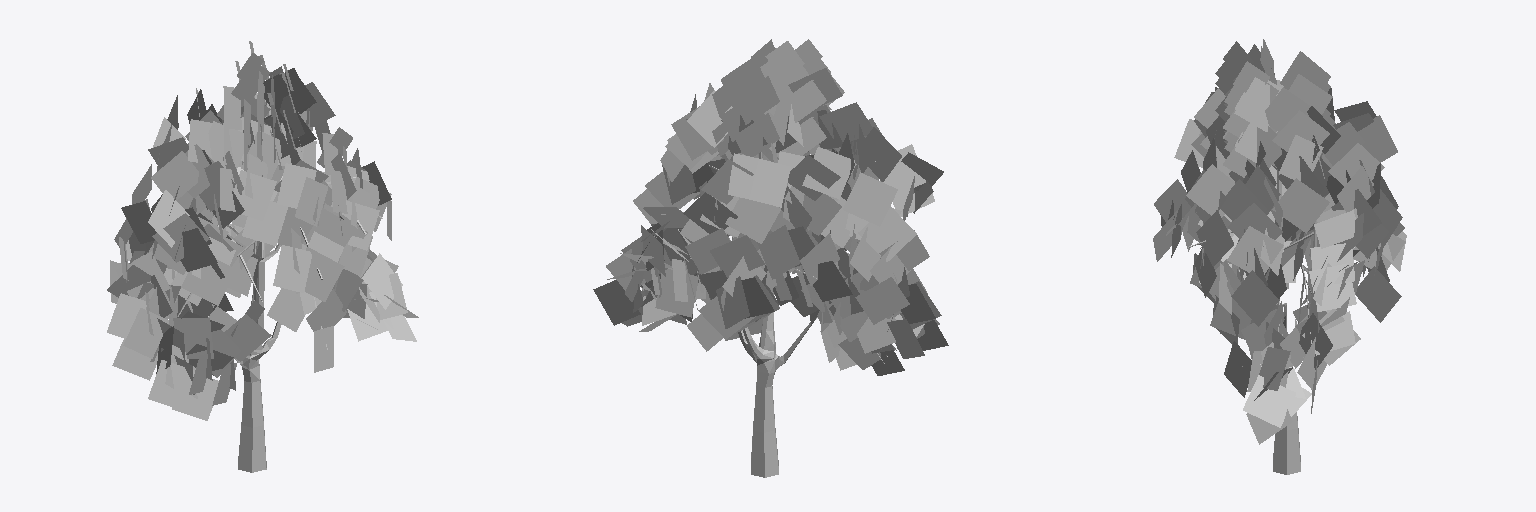
The model's file is tree.obj.
3 views of the same model, side by side, from view 1: azimuth 30°, elevation 25°; view 2: azimuth 150°, elevation 25°; view 3: azimuth 270°, elevation 25° (orthographic).
Parts seen in each view (by area): view 1: Tree; view 2: Tree; view 3: Tree.
Boxes of the visible parts, x1,y1,x2,y2 form: Tree: [107, 41, 418, 472]; Tree: [593, 39, 948, 477]; Tree: [1153, 39, 1406, 474].
Bounding box in the file's own units: 174 × 223 × 121.